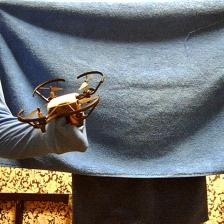drone: (16, 70, 106, 134)
